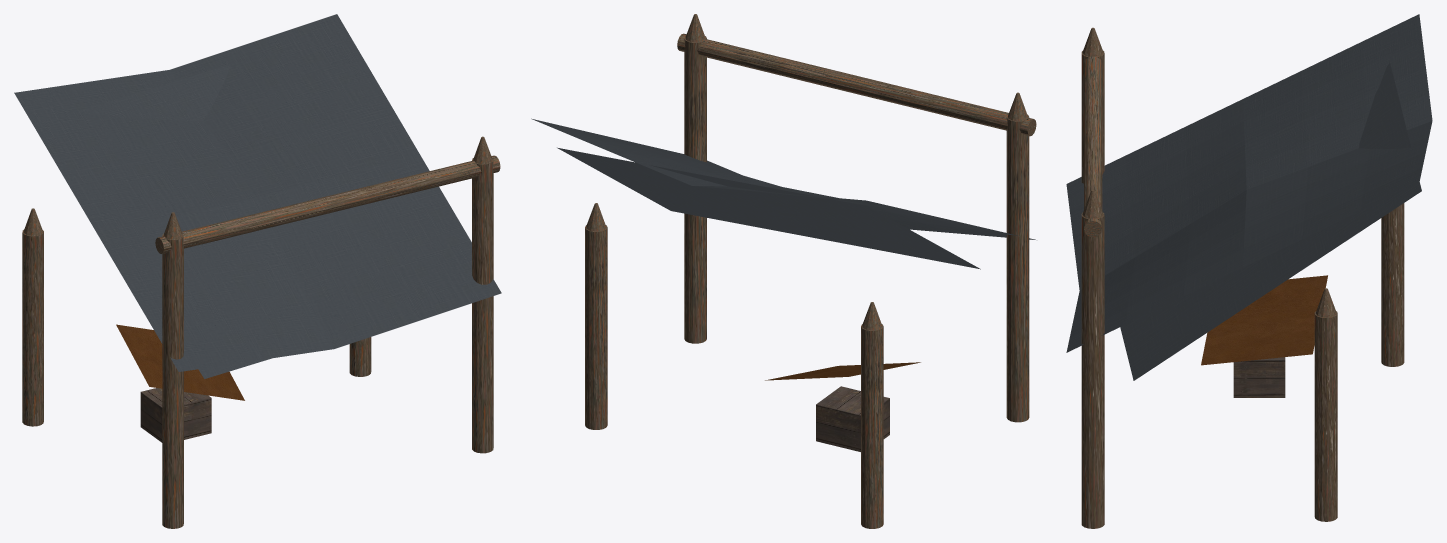
Rendered from lean_to_b_realistic.glb.
3 renders of one model, left to right at view 1: azimuth 30°, elevation 25°; view 2: azimuth 150°, elevation 25°; view 3: azimuth 270°, elevation 25°, orthographic. The views are drawn at different scales.
Parts seen in each view (by area): view 1: Grid, Cylinder, Cylinder.001, Cylinder.004, Grid.001, Cylinder.002, Grid.002, Cube, Cylinder.003; view 2: Grid.001, Cylinder, Cylinder.004, Grid, Cylinder.001, Cylinder.003, Cylinder.002, Cube, Grid.002; view 3: Grid, Grid.001, Cylinder.001, Grid.002, Cylinder.003, Cylinder.002, Cylinder.004, Cube, Cylinder.
Part boxes in pixels (<box>): Grid: <box>14,14,501,371</box>; Cylinder: <box>162,233,183,528</box>; Cylinder.001: <box>472,158,493,453</box>; Cylinder.004: <box>155,155,500,253</box>; Grid.001: <box>78,64,271,378</box>; Cylinder.002: <box>22,229,43,426</box>; Grid.002: <box>116,324,244,400</box>; Cube: <box>140,388,211,442</box>; Cylinder.003: <box>349,337,371,376</box>; Grid.001: <box>557,147,980,269</box>; Cylinder: <box>1006,114,1029,422</box>; Cylinder.004: <box>677,33,1036,136</box>; Grid: <box>531,118,1035,239</box>; Cylinder.001: <box>684,36,706,343</box>; Cylinder.003: <box>585,225,607,429</box>; Cylinder.002: <box>861,324,883,528</box>; Cube: <box>816,386,889,451</box>; Grid.002: <box>765,362,920,380</box>; Grid: <box>1066,14,1432,352</box>; Grid.001: <box>1120,62,1421,380</box>; Cylinder.001: <box>1081,212,1104,528</box>; Grid.002: <box>1201,275,1327,365</box>; Cylinder.003: <box>1314,311,1337,521</box>; Cylinder.002: <box>1381,203,1404,366</box>; Cylinder.004: <box>1084,56,1102,237</box>; Cube: <box>1233,357,1285,397</box>; Cylinder: <box>1081,50,1104,183</box>.
Size of the model in its own units: 2.5 by 2.28 by 2.2.
Materials: 4 (4 with a texture image).
